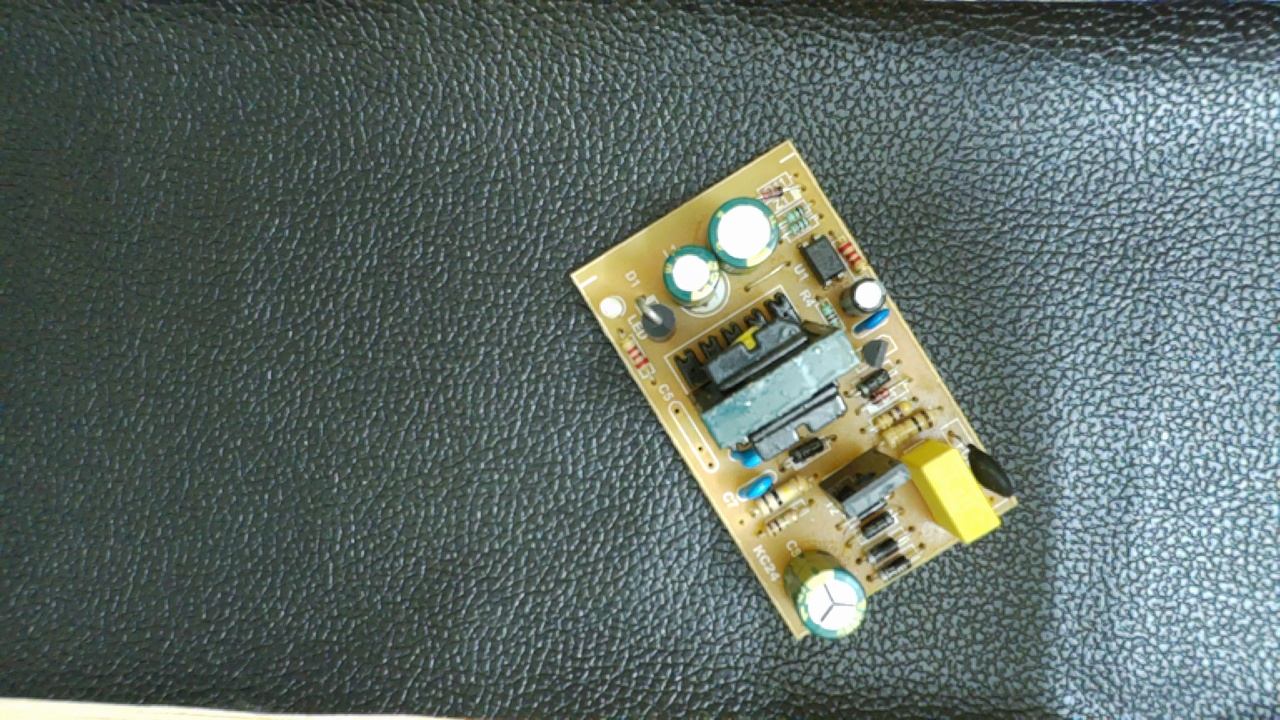fuse: (956, 432, 1023, 503)
hv_capacitor: (780, 551, 869, 644)
optocoupler: (795, 227, 851, 287)
